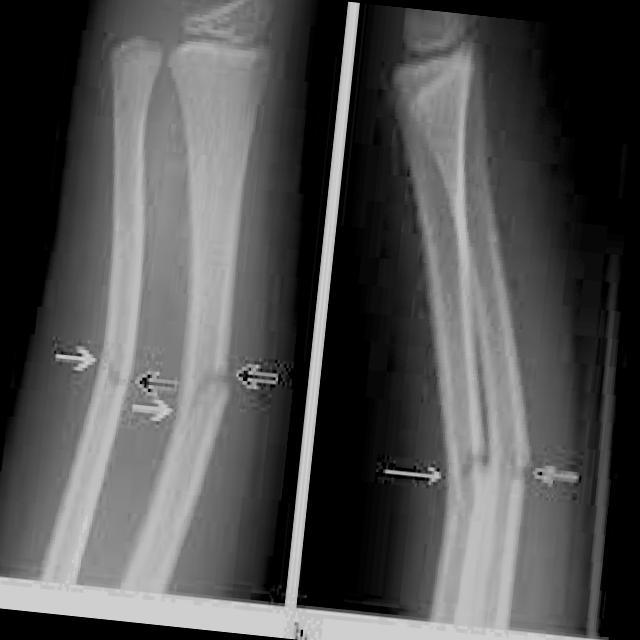GreenStick Fracture: (192, 354, 228, 418), (454, 440, 491, 486), (97, 356, 128, 398)
